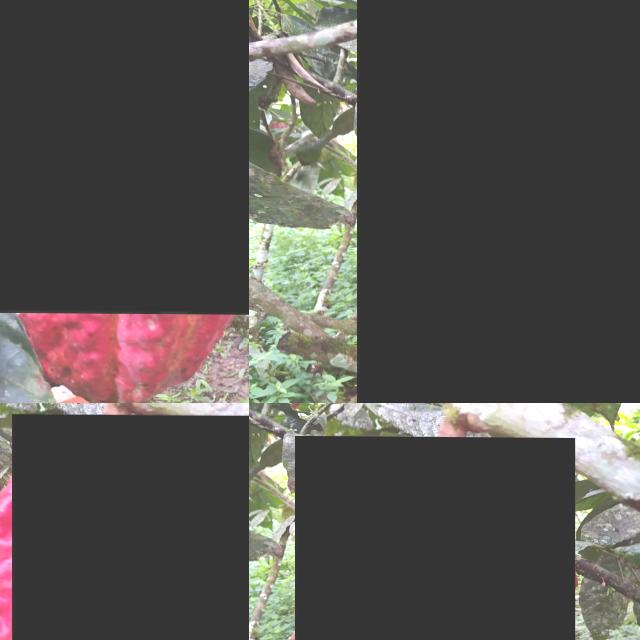Sana: (357, 0, 640, 403), (0, 0, 249, 314), (295, 435, 575, 640), (12, 413, 249, 640)
